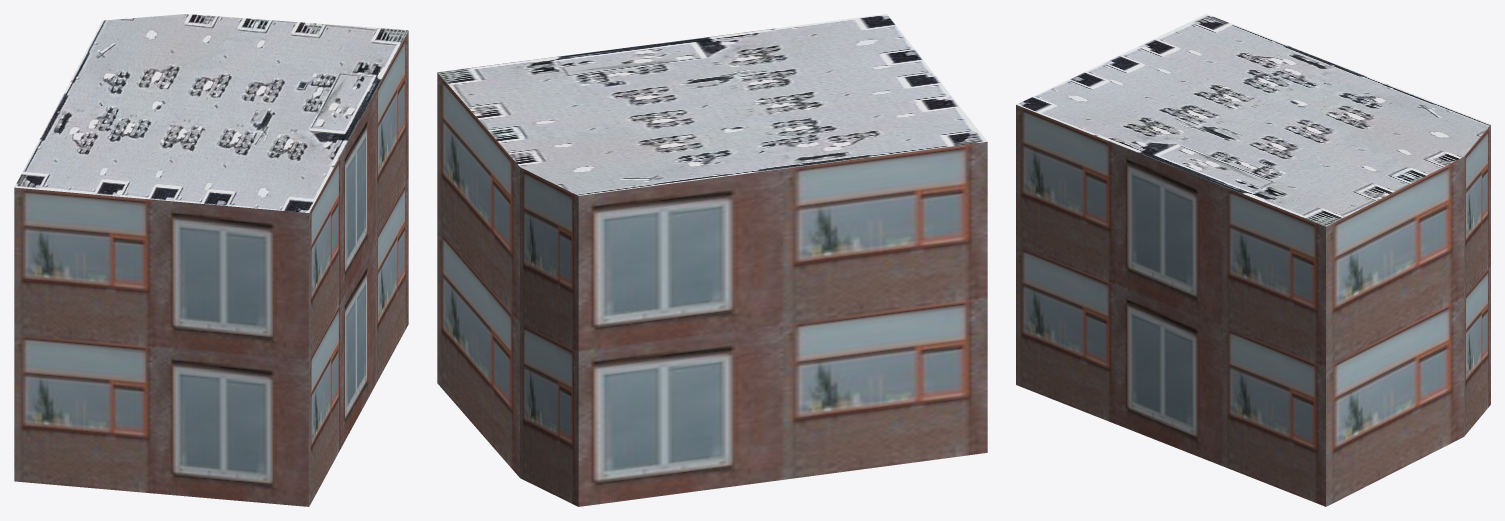
File: ResTex__1656.fbx
3 renders of one model, left to right at view 1: azimuth 30°, elevation 25°; view 2: azimuth 150°, elevation 25°; view 3: azimuth 270°, elevation 25°, orthographic. The views are drawn at different scales.
Parts seen in each view (by area): view 1: CityEngineMaterial_19_m, CityEngineMaterial_15_m; view 2: CityEngineMaterial_19_m, CityEngineMaterial_15_m; view 3: CityEngineMaterial_19_m, CityEngineMaterial_15_m.
Part boxes in pixels (x1,y1,x2,y2): CityEngineMaterial_19_m: (14,31,408,506); CityEngineMaterial_15_m: (14,14,408,212); CityEngineMaterial_19_m: (437,72,987,506); CityEngineMaterial_15_m: (437,14,987,195); CityEngineMaterial_19_m: (1016,105,1490,506); CityEngineMaterial_15_m: (1016,14,1490,226).
Size of the model in its own units: 9.77 by 6 by 9.22.
2 materials, 2 textured.
